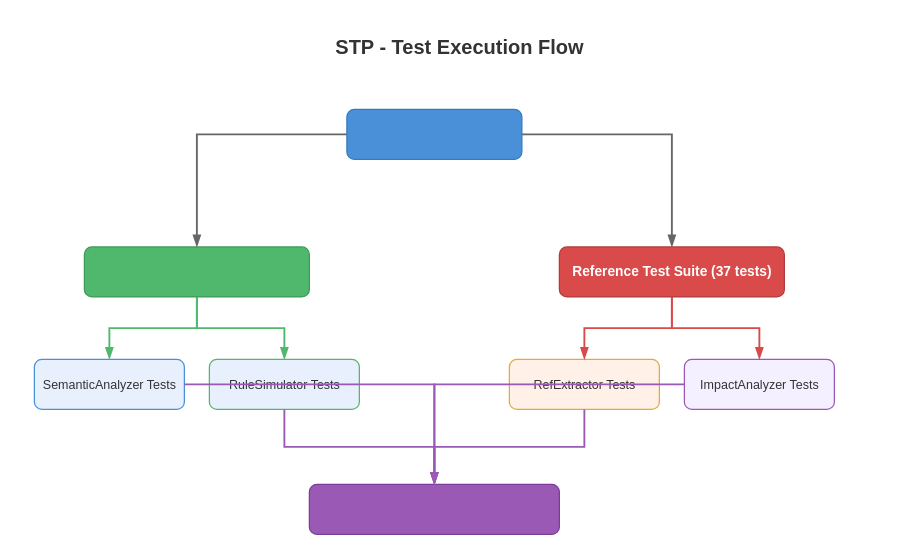
The diagram is 918 pixels wide and 556 high, and some of its shapes have lost their labels. Each missing label, with the centre of its shape:
"Coverage Report" goes at point 433,508.
"Semantic Test Suite (48 tests)" goes at point 196,271.
"Test Runner" goes at point 434,133.
